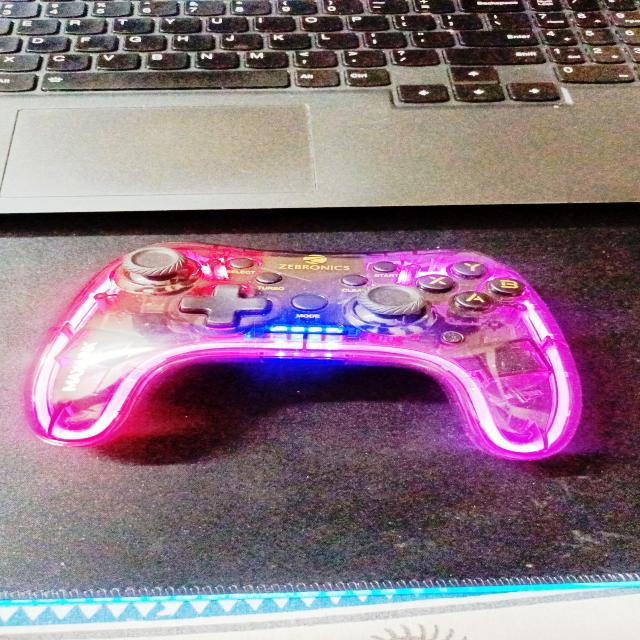gamepad: (21, 240, 584, 460)
